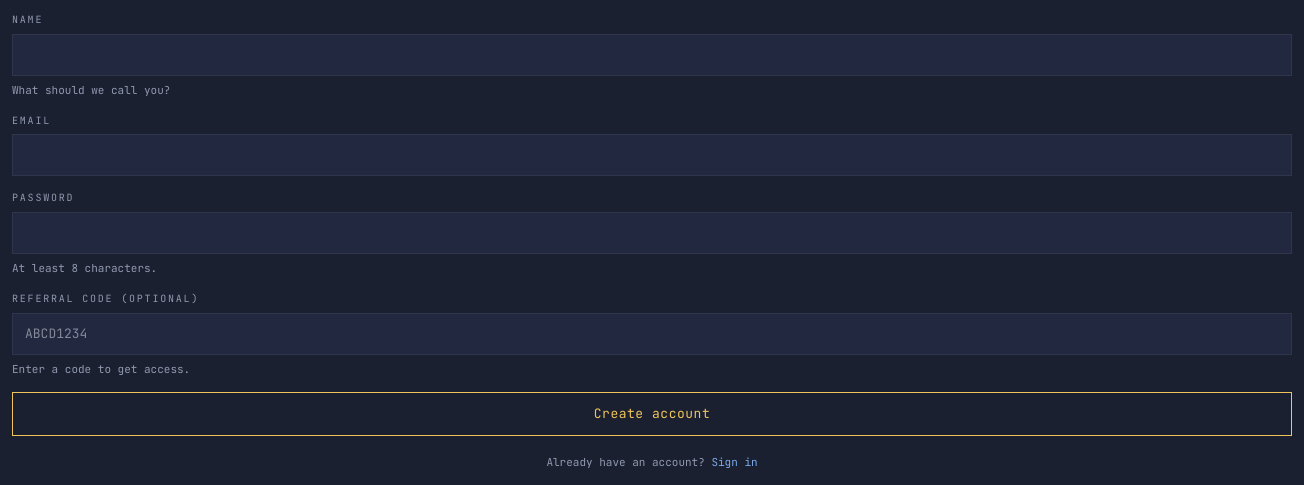
Test: SignUpForm › signs up with the post-signup redirect, full_name, and shows the inline success state
Type "Ada Lovelace" into the field labelled "Name" at (652, 55), box [12, 34, 1292, 76]
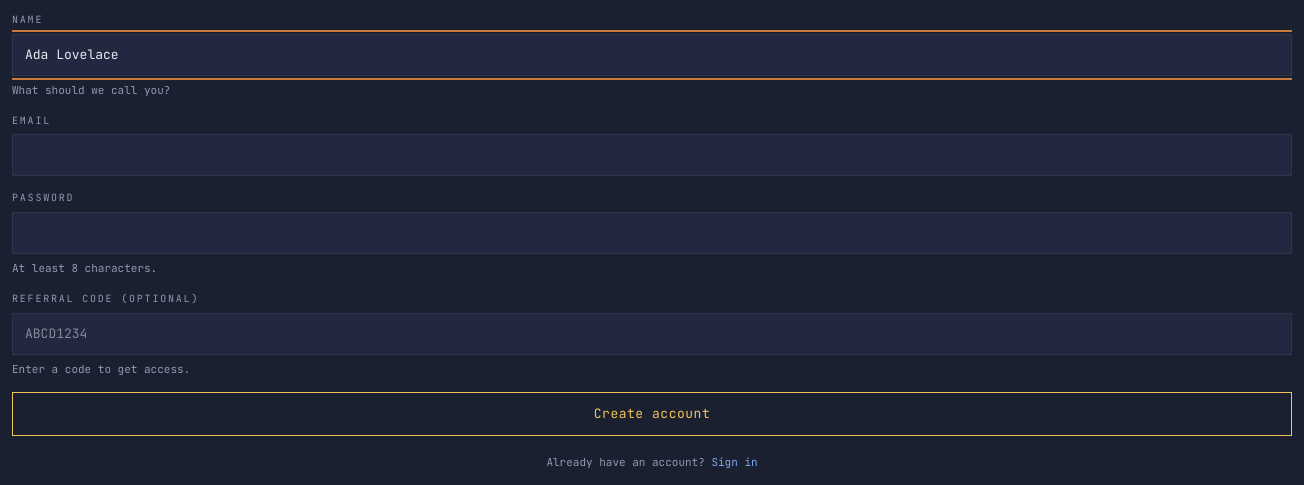
Type "a@b.c" into the field labelled "Email" at (652, 155), box [12, 134, 1292, 176]
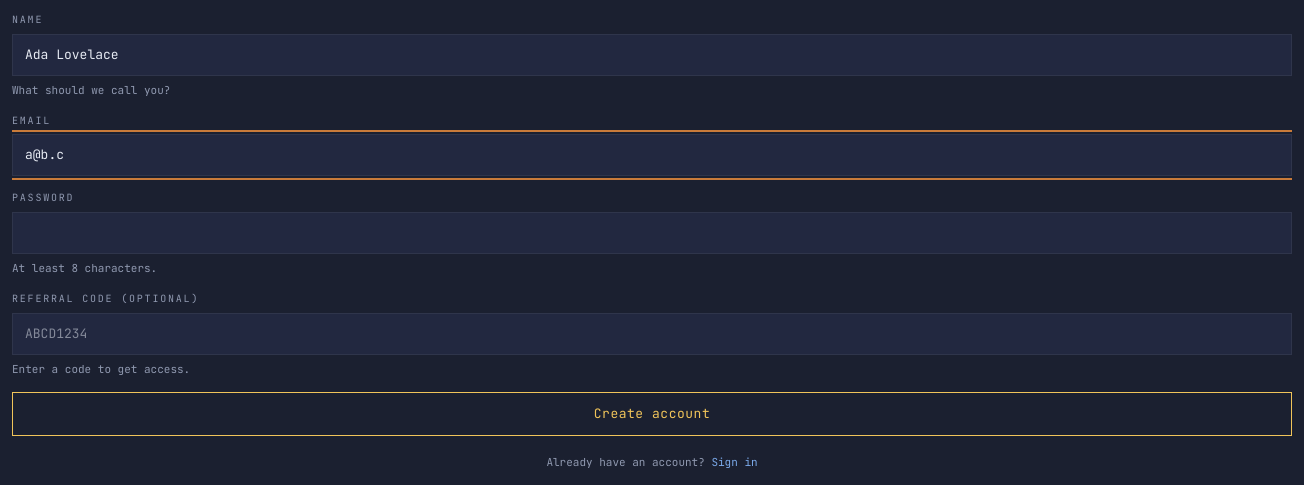
Type "longenough" into the password field labelled "Password" at (652, 233), box [12, 212, 1292, 254]
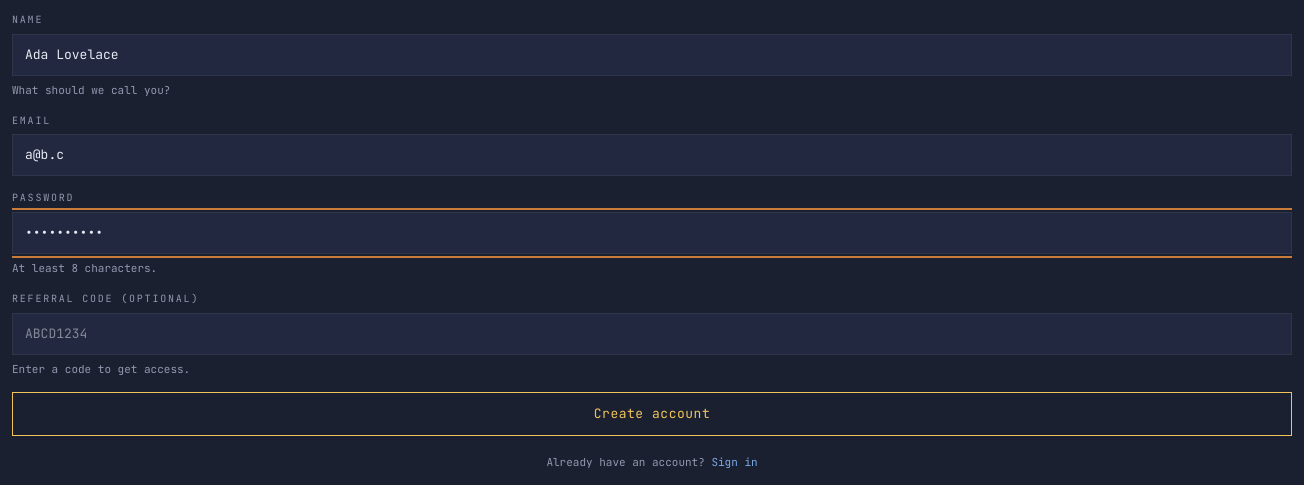
Click the button "Create account" at (652, 414), box [12, 392, 1292, 436]
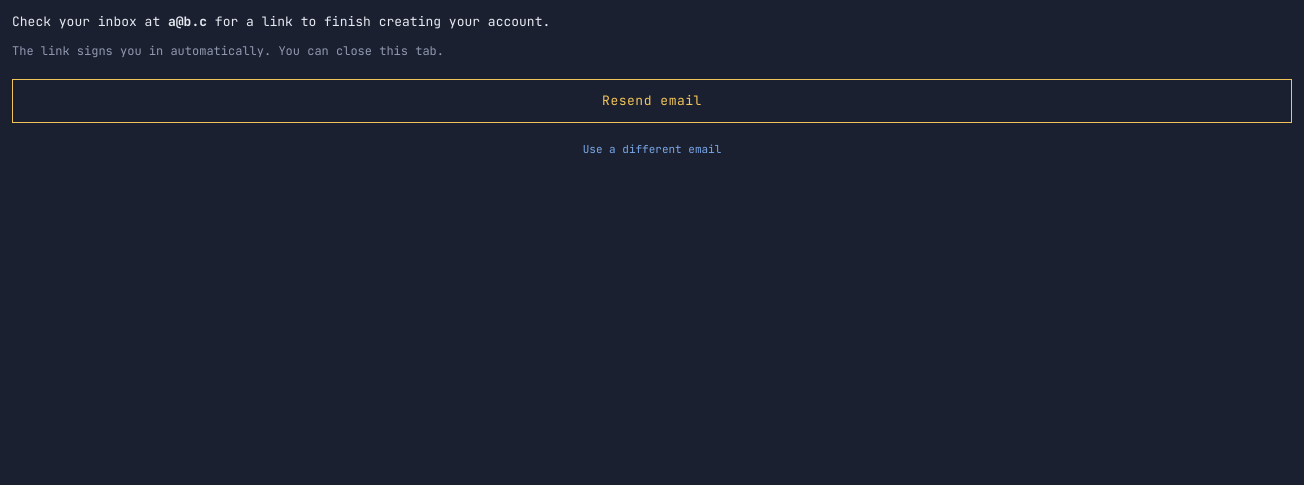
Expected: the text "Check your inbox" is shown, [12, 13, 168, 30]
Expected: the text "a@b.c" is shown, [168, 13, 207, 30]
Expected: the button "Resend email" is shown, [12, 79, 1292, 123]
